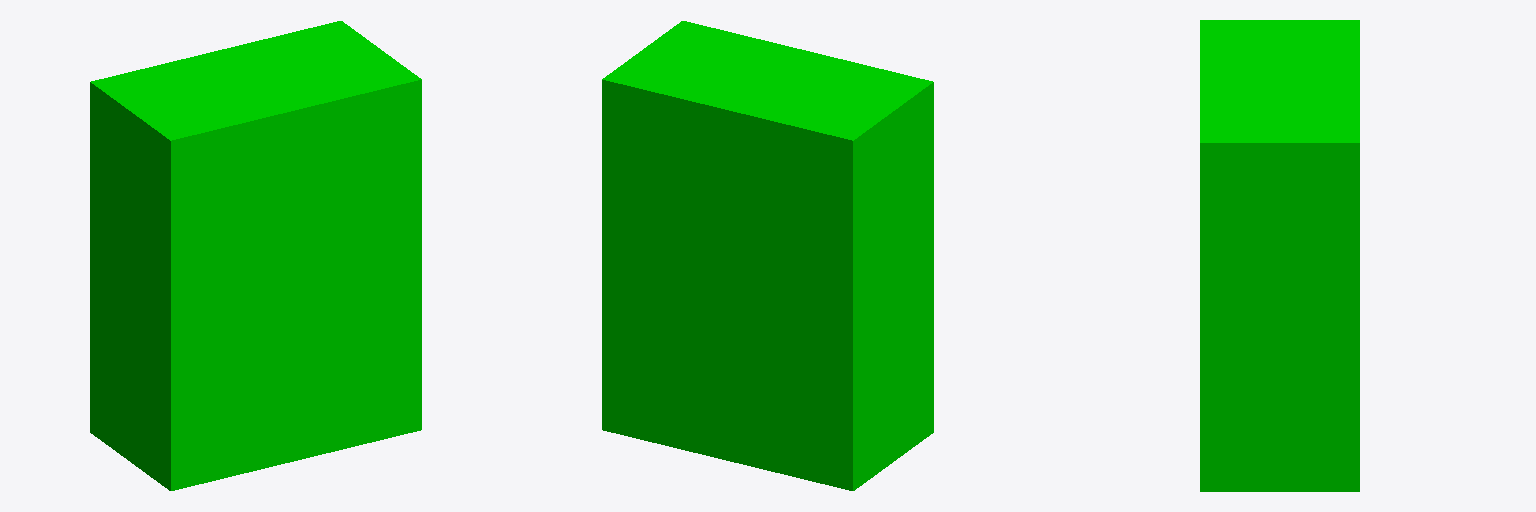
URDF robot description (drake_soda):
<?xml version="1.0"?>
<robot name="drake_soda">
  <link name="drake_soda">
    <inertial>
      <origin xyz="0 0 0" rpy="0 0 0" />
      <mass value="0.068" />
      <inertia ixx="0.0000600666644"  ixy="0" ixz="0" iyy="0.0000957666644" iyz="0"
          izz="0.000560592" />
    </inertial>
    <visual>
      <origin xyz="0 0 0" rpy="0 0 0" />git
      <geometry>
        <box size="0.09 0.05 0.12" />
      </geometry>
      <material name="bright green">
        <color rgba="0.0 0.9 0.0 1" />
      </material>
    </visual>
    <!--
      This places contact spheres on the corners of the visual box and a
      *slightly* smaller inset contact box (centered on the visual origin). This
      accounts for issues in the contact computation providing stable table
      contact *and* supports grasping.

      When the box is in stable contact with the ground plane, the corner
      spheres will provide fixed contact points (simulating distributed contact
      points around the face).  However, for arbitrary grip configuration, the
      slightly inset box will provide contact with a *slight* offset (in this
      case a deviation of 0.0005 m from the visual surface).
     -->
    <collision>
      <geometry>
        <box size="0.089 0.049 0.119" />
      </geometry>
    </collision>

    <collision>
      <origin xyz="-0.045 -0.025 -0.06" rpy="0 0 0"/>
      <geometry>
        <sphere radius="1e-7"/>
      </geometry>
    </collision>
    <collision>
      <origin xyz="-0.045 0.025 -0.06" rpy="0 0 0"/>
      <geometry>
        <sphere radius="1e-7"/>
      </geometry>
    </collision>
    <collision>
      <origin xyz="0.045 0.025 -0.06" rpy="0 0 0"/>
      <geometry>
        <sphere radius="1e-7"/>
      </geometry>
    </collision>
    <collision>
      <origin xyz="0.045 -0.025 -0.06" rpy="0 0 0"/>
      <geometry>
        <sphere radius="1e-7"/>
      </geometry>
    </collision>

    <collision>
      <origin xyz="-0.045 -0.025 0.06" rpy="0 0 0"/>
      <geometry>
        <sphere radius="1e-7"/>
      </geometry>
    </collision>
    <collision>
      <origin xyz="-0.045 0.025 0.06" rpy="0 0 0"/>
      <geometry>
        <sphere radius="1e-7"/>
      </geometry>
    </collision>
    <collision>
      <origin xyz="0.045 0.025 0.06" rpy="0 0 0"/>
      <geometry>
        <sphere radius="1e-7"/>
      </geometry>
    </collision>
    <collision>
      <origin xyz="0.045 -0.025 0.06" rpy="0 0 0"/>
      <geometry>
        <sphere radius="1e-7"/>
      </geometry>
    </collision>
   </link>
</robot>

--- What the picture shows (computed from the rendered views, not written in the file) ---
Views: 3 orthographic renders of the robot side by side, from view 1: azimuth 30°, elevation 25°; view 2: azimuth 150°, elevation 25°; view 3: azimuth 270°, elevation 25°.
Model drake_soda with 1 links and 0 joints (none), rooted at drake_soda, posed all joints at 0.
Links seen in each view (by area): view 1: drake_soda; view 2: drake_soda; view 3: drake_soda.
Link boxes in pixels (x1=…): drake_soda: x1=90, y1=21, x2=421, y2=490; drake_soda: x1=602, y1=21, x2=933, y2=490; drake_soda: x1=1200, y1=20, x2=1359, y2=491.
Size in the robot's own frame: 0.09 by 0.05 by 0.12 metres.
Geometry: primitives only (box / cylinder / sphere), no mesh files.